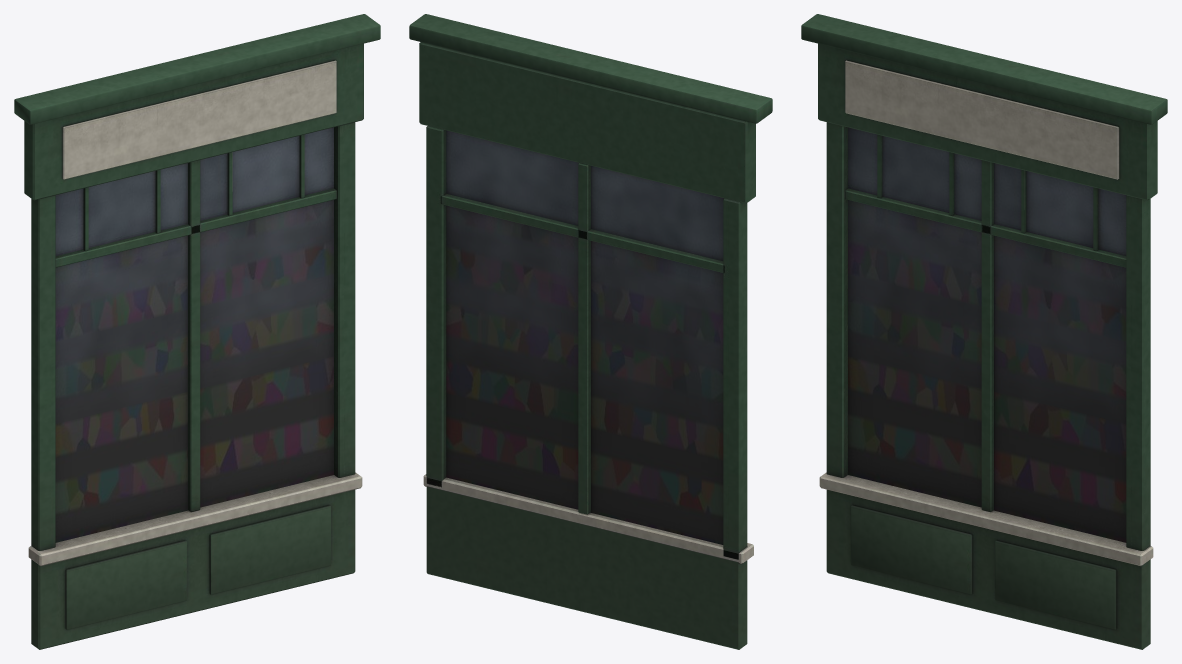
Rendered from shop_town_20_green.glb.
3 renders of one model, left to right at view 1: azimuth 30°, elevation 25°; view 2: azimuth 150°, elevation 25°; view 3: azimuth 330°, elevation 25°, orthographic.
Parts seen in each view (by area): view 1: shop_town_20_green; view 2: shop_town_20_green; view 3: shop_town_20_green.
Part boxes in pixels (x1=…): shop_town_20_green: x1=14, y1=14, x2=380, y2=649; shop_town_20_green: x1=409, y1=14, x2=772, y2=649; shop_town_20_green: x1=801, y1=14, x2=1167, y2=649.
Bounding box in the file's own units: 2.44 × 3.65 × 0.2.
1 material, 1 textured.
